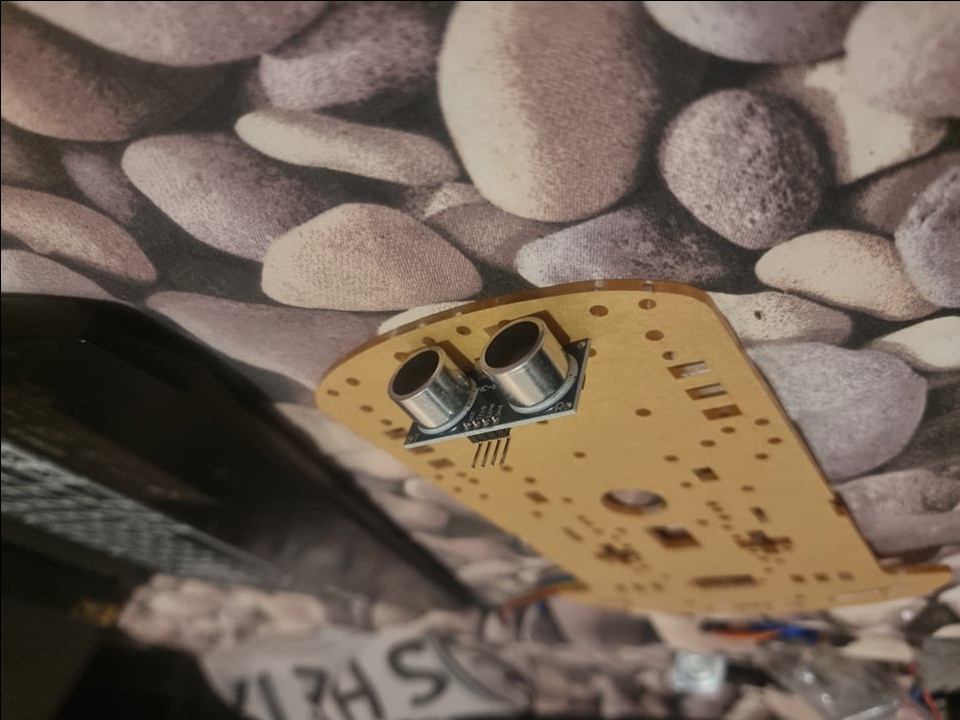SENSOR: (383, 311, 582, 450)
